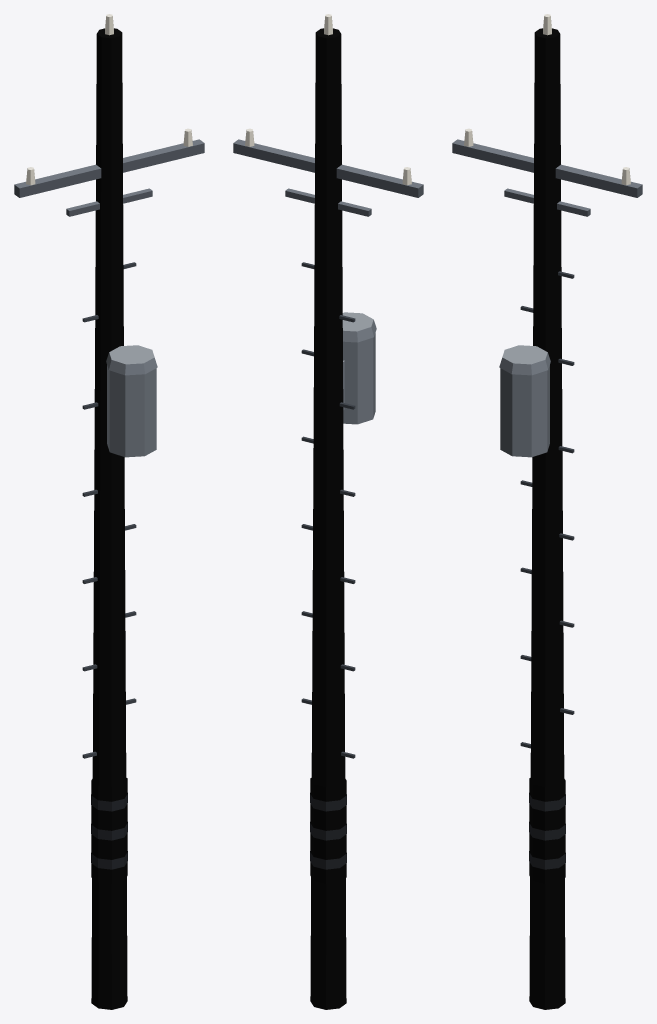
Rendered from UtilityPole.fbx.
The picture shows the model from 3 angles, left to right: view 1: azimuth 30°, elevation 25°; view 2: azimuth 150°, elevation 25°; view 3: azimuth 330°, elevation 25°; orthographic projection.
Visible parts, largest first — view 1: Pole, Transformer, Arm, Band, Stripes, Steps, Insulators; view 2: Pole, Transformer, Arm, Band, Stripes, Steps, Insulators; view 3: Pole, Transformer, Arm, Band, Stripes, Steps, Insulators.
Part boxes in pixels (bbox=[...]): Pole: bbox=[91, 28, 127, 1009]; Transformer: bbox=[106, 345, 157, 457]; Arm: bbox=[14, 139, 204, 216]; Band: bbox=[91, 778, 127, 883]; Stripes: bbox=[91, 793, 127, 869]; Steps: bbox=[82, 262, 136, 758]; Insulators: bbox=[26, 14, 192, 185]; Pole: bbox=[310, 28, 346, 1009]; Transformer: bbox=[342, 312, 376, 424]; Arm: bbox=[233, 139, 423, 216]; Band: bbox=[310, 778, 346, 883]; Stripes: bbox=[310, 793, 346, 869]; Steps: bbox=[301, 262, 355, 758]; Insulators: bbox=[245, 14, 411, 185]; Pole: bbox=[529, 28, 565, 1009]; Transformer: bbox=[499, 345, 550, 457]; Arm: bbox=[452, 139, 642, 216]; Band: bbox=[529, 778, 565, 883]; Stripes: bbox=[529, 793, 565, 869]; Steps: bbox=[520, 271, 574, 748]; Insulators: bbox=[464, 14, 630, 185].
Size of the model in its own units: 2 by 10.18 by 0.8326.
